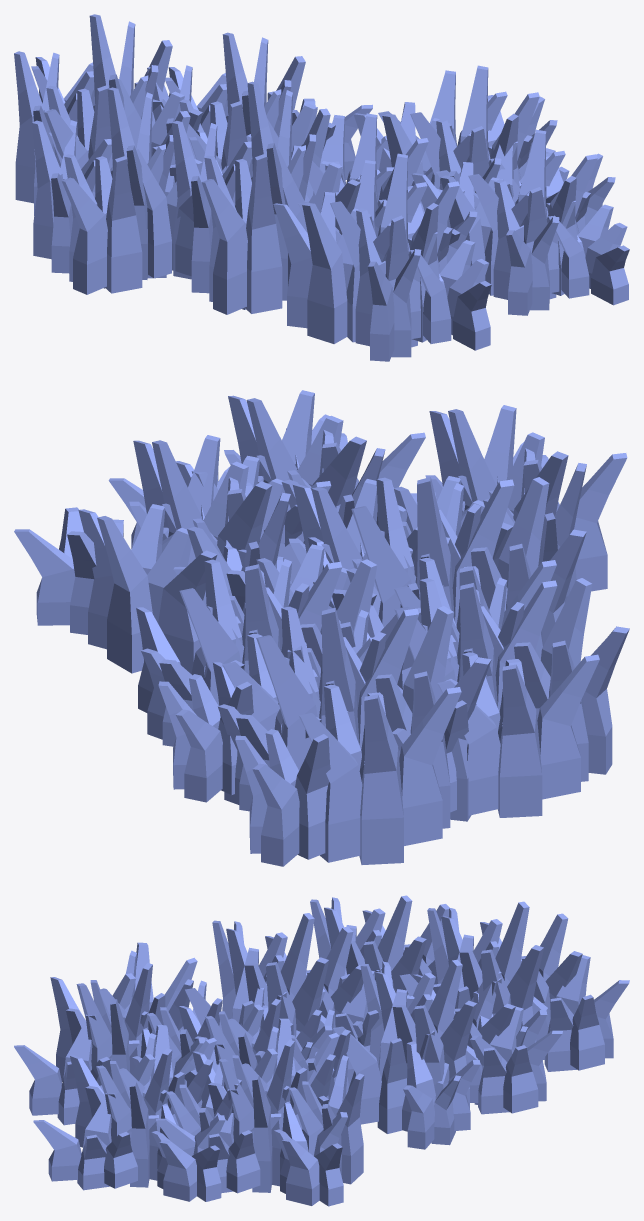
The model's file is grASS.fbx.
The picture shows the model from 3 angles, top to bottom: view 1: azimuth 30°, elevation 25°; view 2: azimuth 150°, elevation 25°; view 3: azimuth 270°, elevation 25°; orthographic projection. The views are drawn at different scales.
Visible parts, largest first — view 1: Cube.029; view 2: Cube.029; view 3: Cube.029.
Part boxes in pixels (x1,y1,x2,y2): Cube.029: (14,14,629,361); Cube.029: (14,390,629,866); Cube.029: (14,895,629,1206).
Size of the model in its own units: 23.35 by 19.5 by 7.67.
